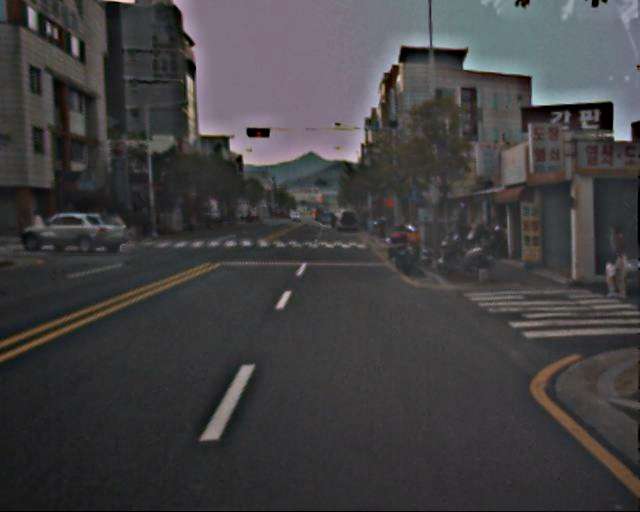person: (598, 227, 631, 299)
